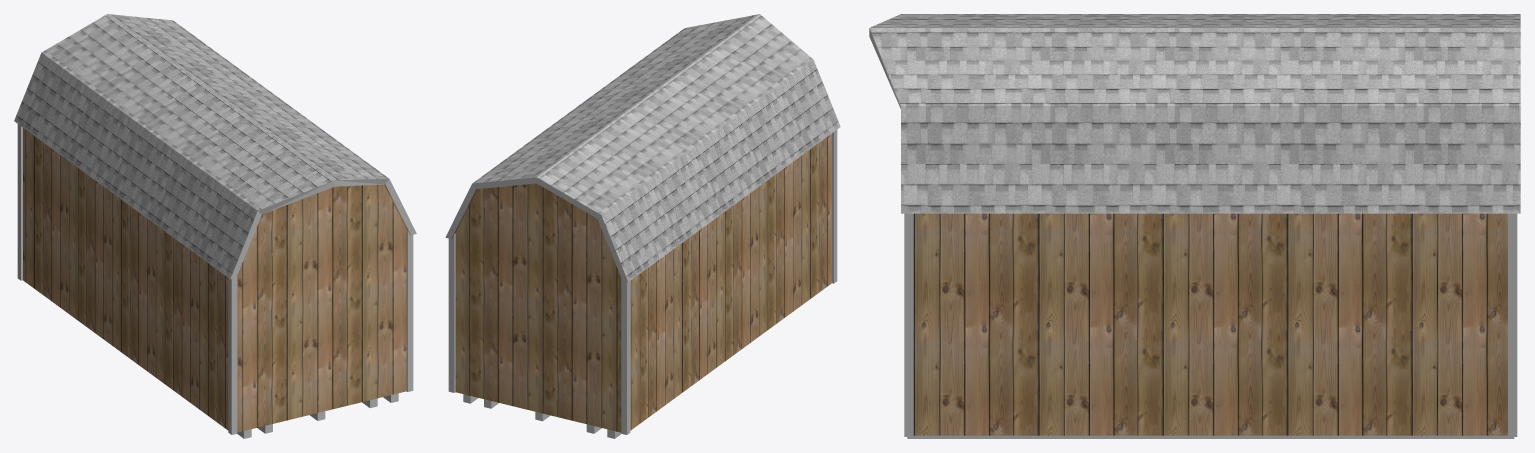
The model's file is High Wall Barns_8x16.obj.
The picture shows the model from 3 angles, left to right: view 1: azimuth 30°, elevation 25°; view 2: azimuth 150°, elevation 25°; view 3: azimuth 270°, elevation 25°; orthographic projection. The views are drawn at different scales.
Visible parts, largest first — view 1: Shed, Roof, Trim, Sides, Floor; view 2: Shed, Roof, Trim, Sides, Floor; view 3: Shed, Roof, Trim, Floor.
Boxes of the visible parts, left/top/right/bottom form: Shed: left=23, top=128, right=410, bottom=432; Roof: left=14, top=14, right=388, bottom=278; Trim: left=17, top=124, right=413, bottom=434; Sides: left=230, top=178, right=416, bottom=279; Floor: left=237, top=393, right=398, bottom=438; Shed: left=451, top=133, right=831, bottom=432; Roof: left=472, top=14, right=840, bottom=281; Trim: left=448, top=130, right=837, bottom=434; Sides: left=445, top=177, right=627, bottom=281; Floor: left=463, top=394, right=621, bottom=438; Shed: left=913, top=213, right=1507, bottom=435; Roof: left=869, top=14, right=1520, bottom=213; Trim: left=904, top=213, right=1517, bottom=436; Floor: left=907, top=435, right=1514, bottom=438.
Size of the model in its own units: 2.48 by 3.17 by 5.23.
